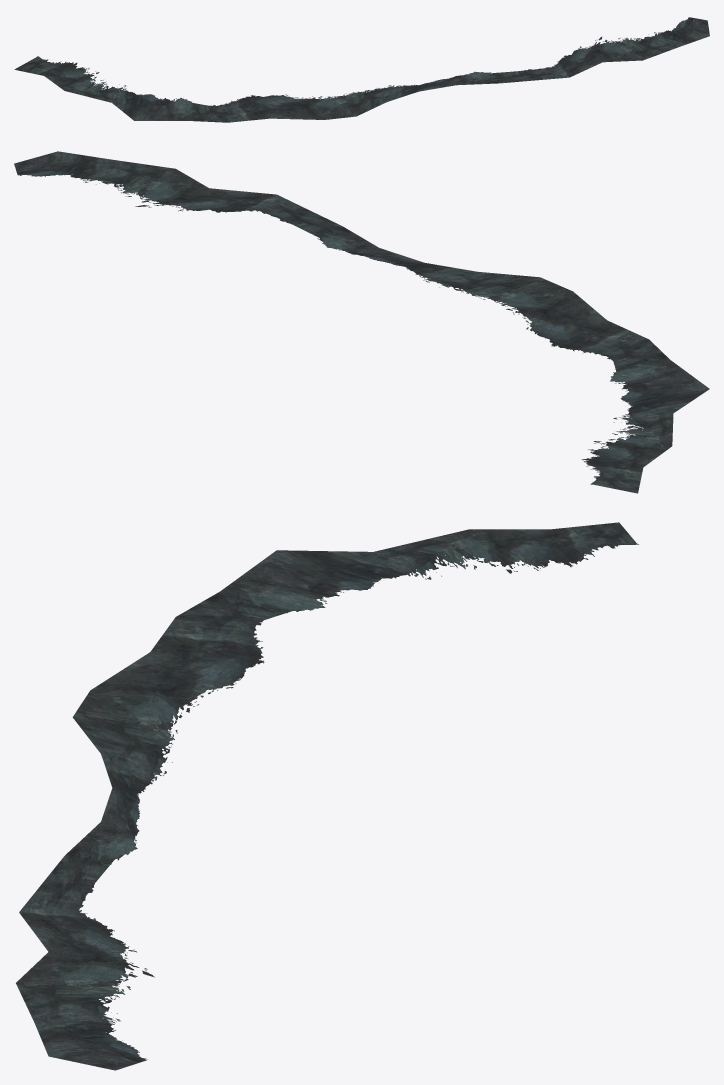
The model's file is blend_weeds18.fbx.
The picture shows the model from 3 angles, top to bottom: view 1: azimuth 30°, elevation 25°; view 2: azimuth 150°, elevation 25°; view 3: azimuth 270°, elevation 25°; orthographic projection. The views are drawn at different scales.
Parts seen in each view (by area): view 1: obj0.039; view 2: obj0.039; view 3: obj0.039.
Boxes of the visible parts, x1=… form: obj0.039: x1=14, y1=17, x2=709, y2=122; obj0.039: x1=14, y1=151, x2=709, y2=493; obj0.039: x1=16, y1=522, x2=638, y2=1070.
Size of the model in its own units: 38.3 by 0.1903 by 20.23.
